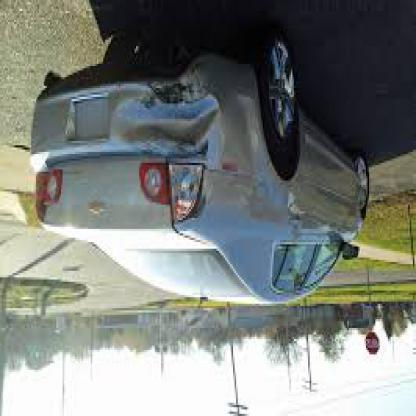dent: (136, 94, 219, 154), (235, 178, 268, 218), (284, 188, 306, 228)
